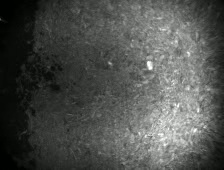corn: (145, 58, 155, 74), (105, 59, 115, 69)
